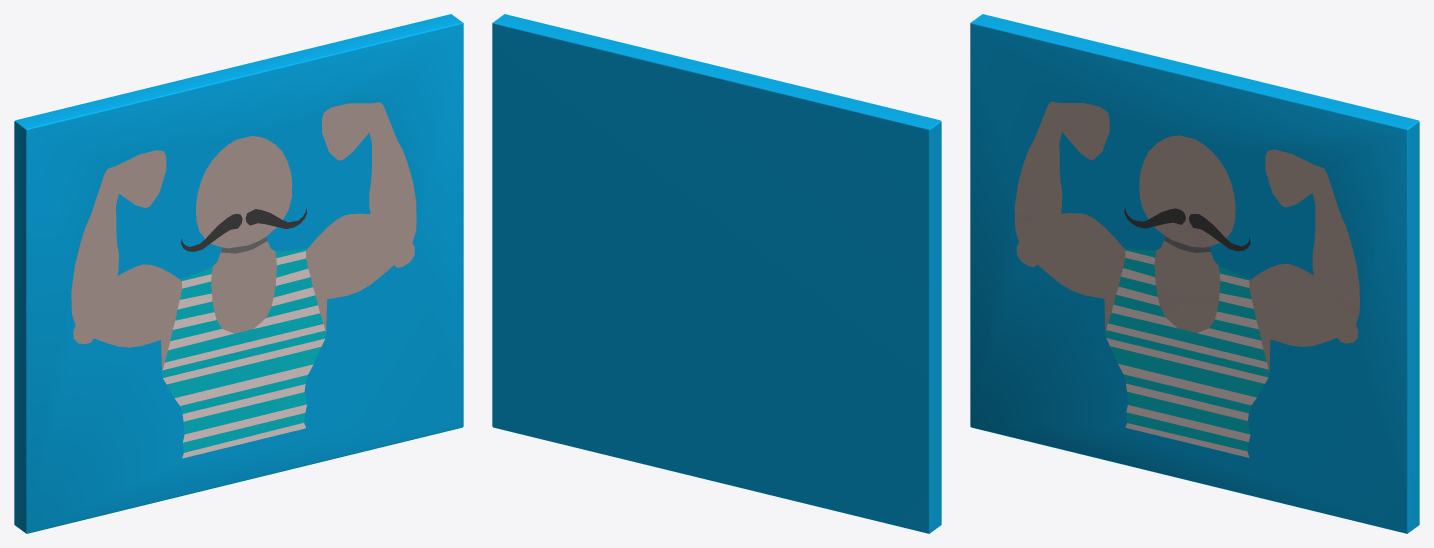
Rendered from Public_14_Poster_circus_2.glb.
The picture shows the model from 3 angles, left to right: view 1: azimuth 30°, elevation 25°; view 2: azimuth 150°, elevation 25°; view 3: azimuth 330°, elevation 25°; orthographic projection.
Visible parts, largest first — view 1: Public_14_Poster_circus_2; view 2: Public_14_Poster_circus_2; view 3: Public_14_Poster_circus_2.
Part boxes in pixels (x1=…): Public_14_Poster_circus_2: x1=14, y1=14, x2=463, y2=533; Public_14_Poster_circus_2: x1=492, y1=14, x2=941, y2=533; Public_14_Poster_circus_2: x1=970, y1=14, x2=1419, y2=533.
Size of the model in its own units: 1.13 by 1 by 0.0567.
Materials: 1 (1 with a texture image).
